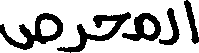ا: (183, 0, 197, 45)
ح: (93, 9, 130, 41)
ر: (60, 19, 85, 51)
ص: (0, 11, 63, 52)
ل: (166, 5, 179, 45)
م: (134, 11, 160, 44)
